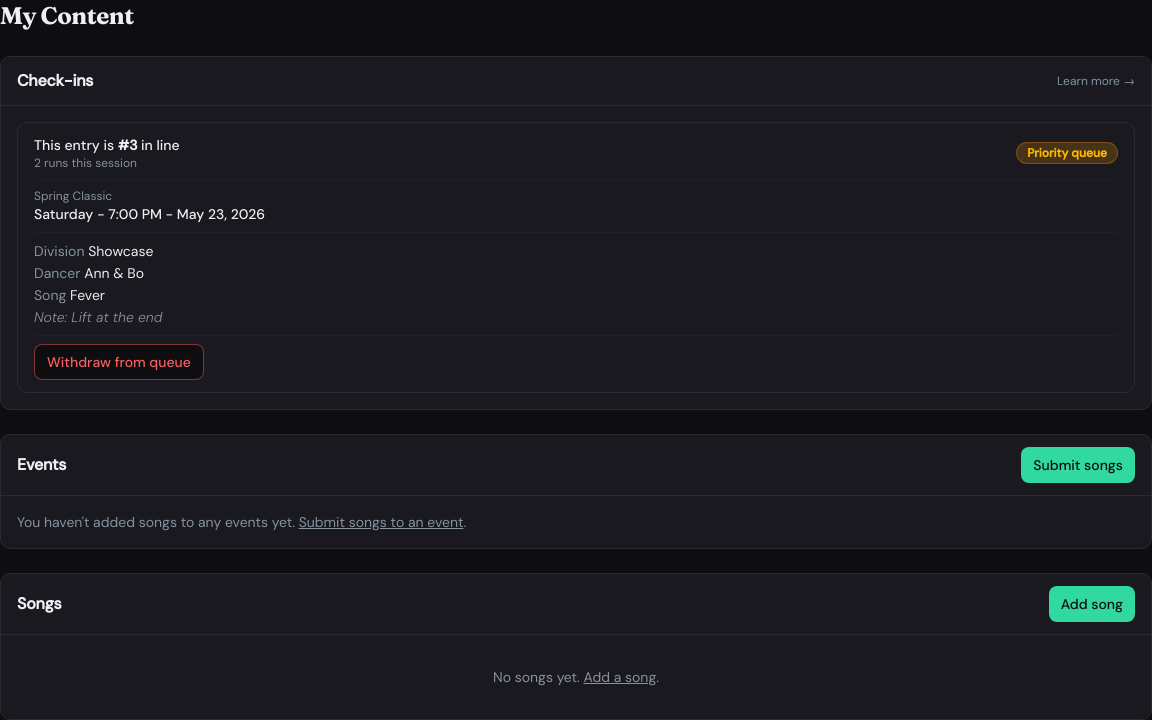
Test: MyContentPage — Check-ins section › keeps the check-in when cancelled or when withdrawing fails
Step 1. Click the button "Withdraw from queue" → point(119, 362), box [34,344,204,380]
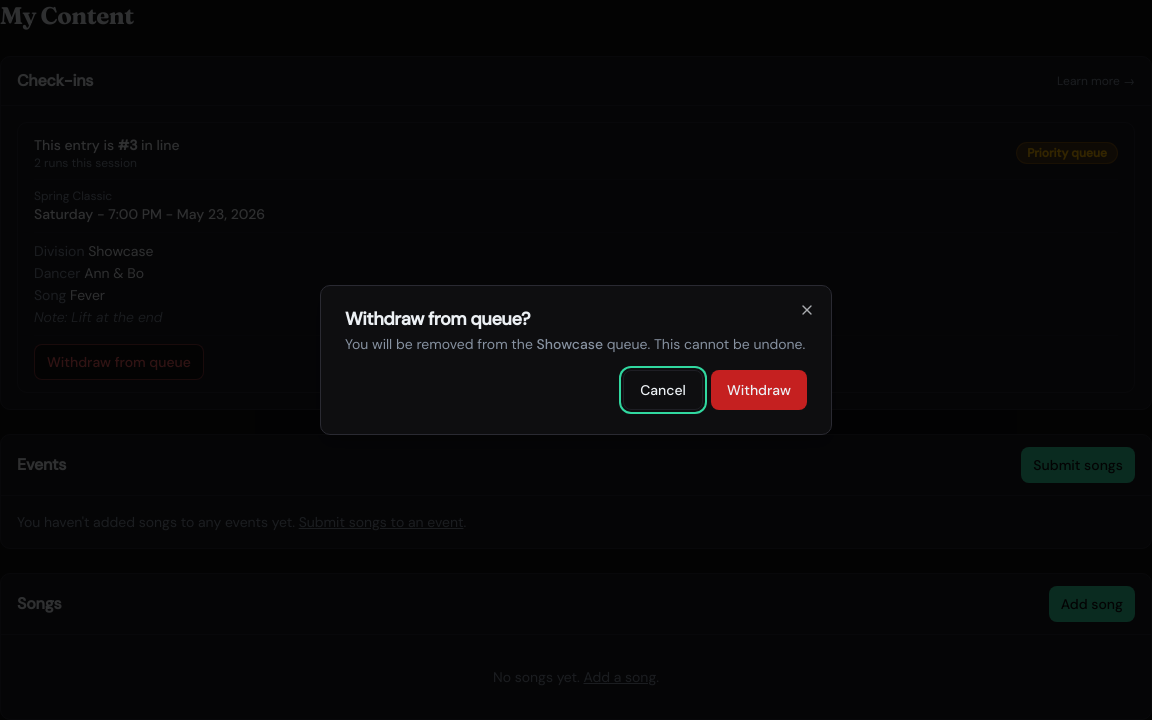
Step 2. Click the button "Cancel" → point(663, 390), box [623,370,703,410]
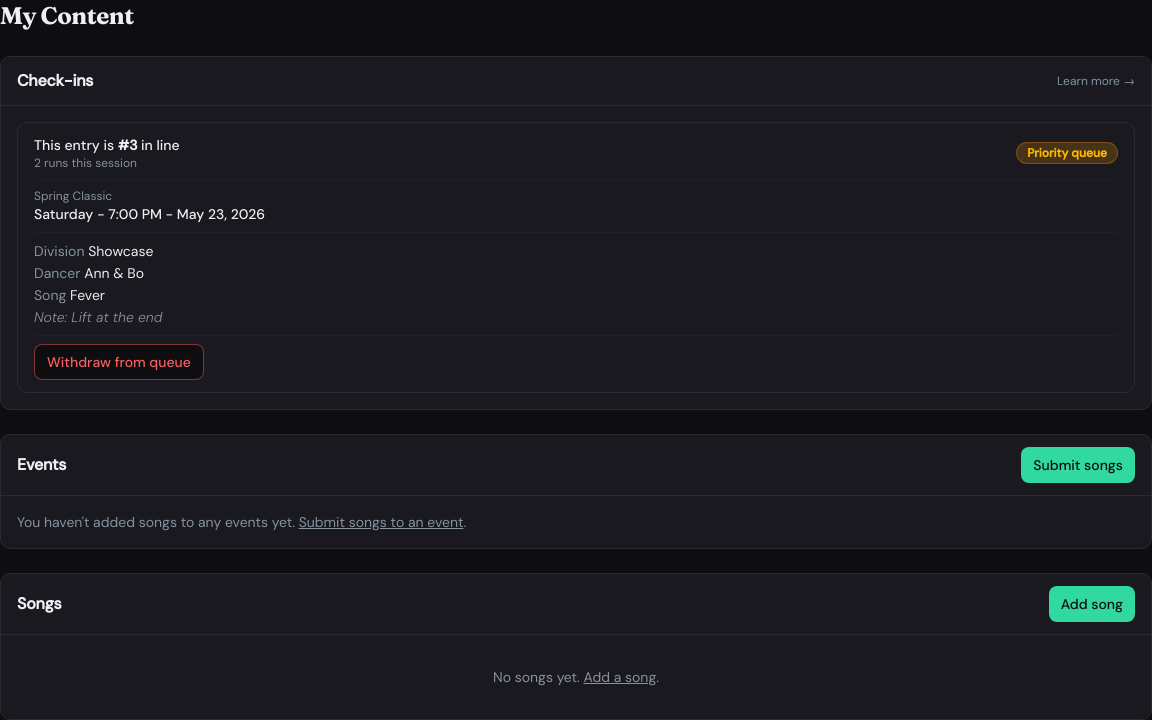
Step 3. Click the button "Withdraw from queue" → point(119, 362), box [34,344,204,380]
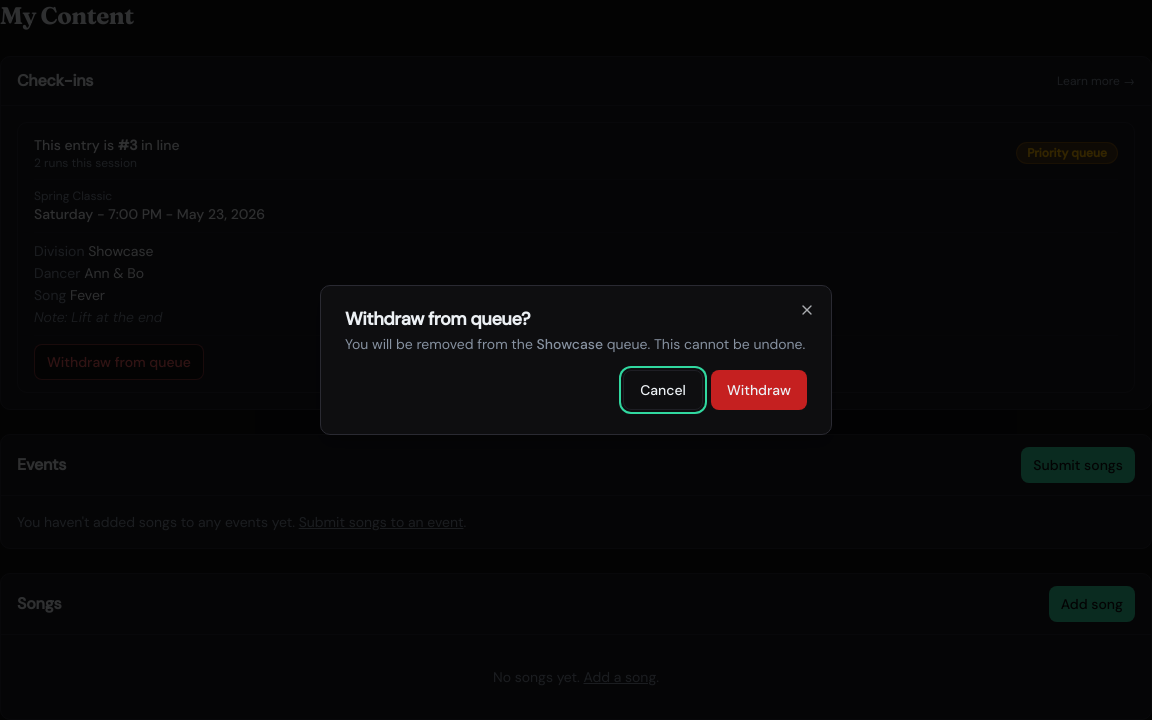
Step 4. Click the button "Withdraw" → point(759, 390), box [711,370,807,410]
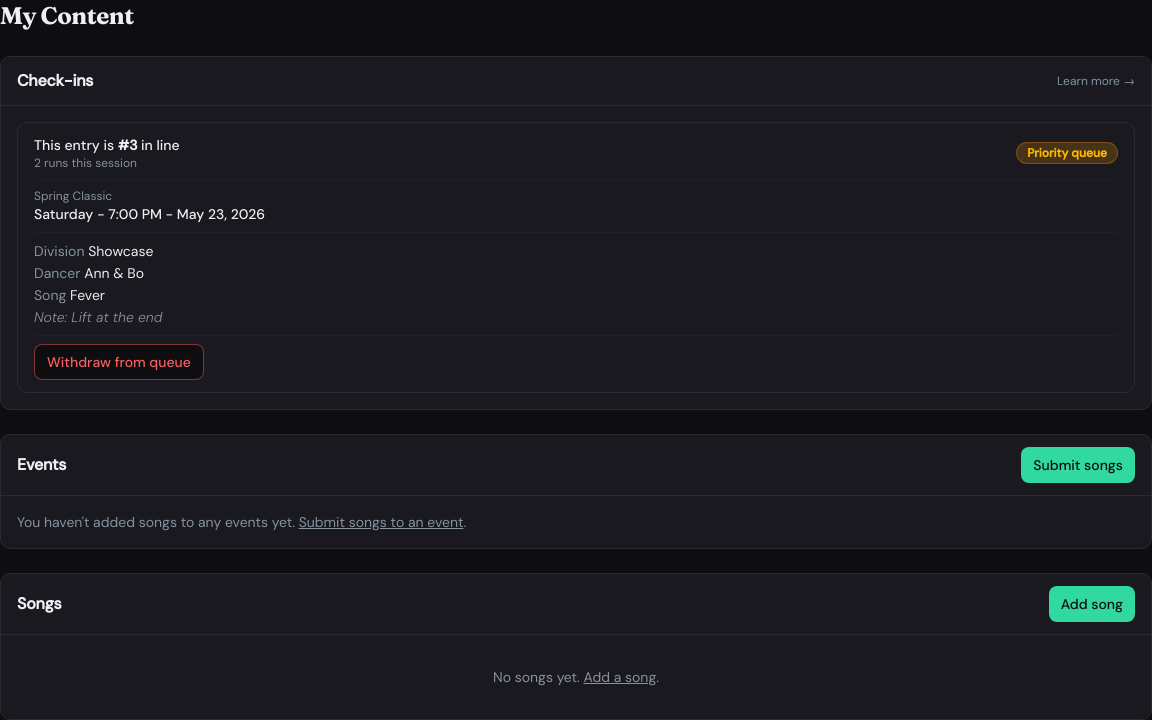
Expected: the text "Ann & Bo" is shown, [84,264,144,282]
Now the dialog is gone
